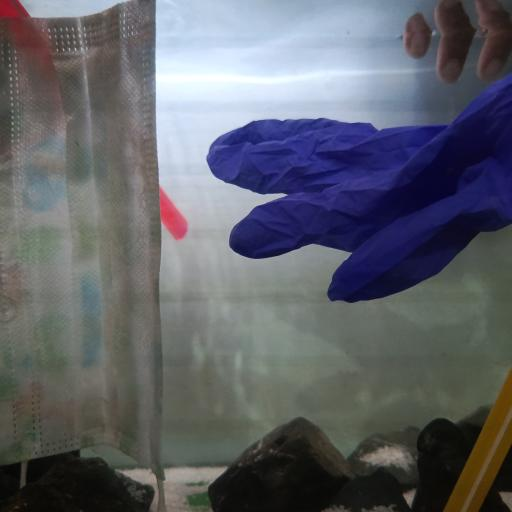glove: (207, 75, 512, 303)
mask: (0, 1, 167, 481)
plastic_straw: (0, 0, 187, 241), (445, 371, 512, 512)
